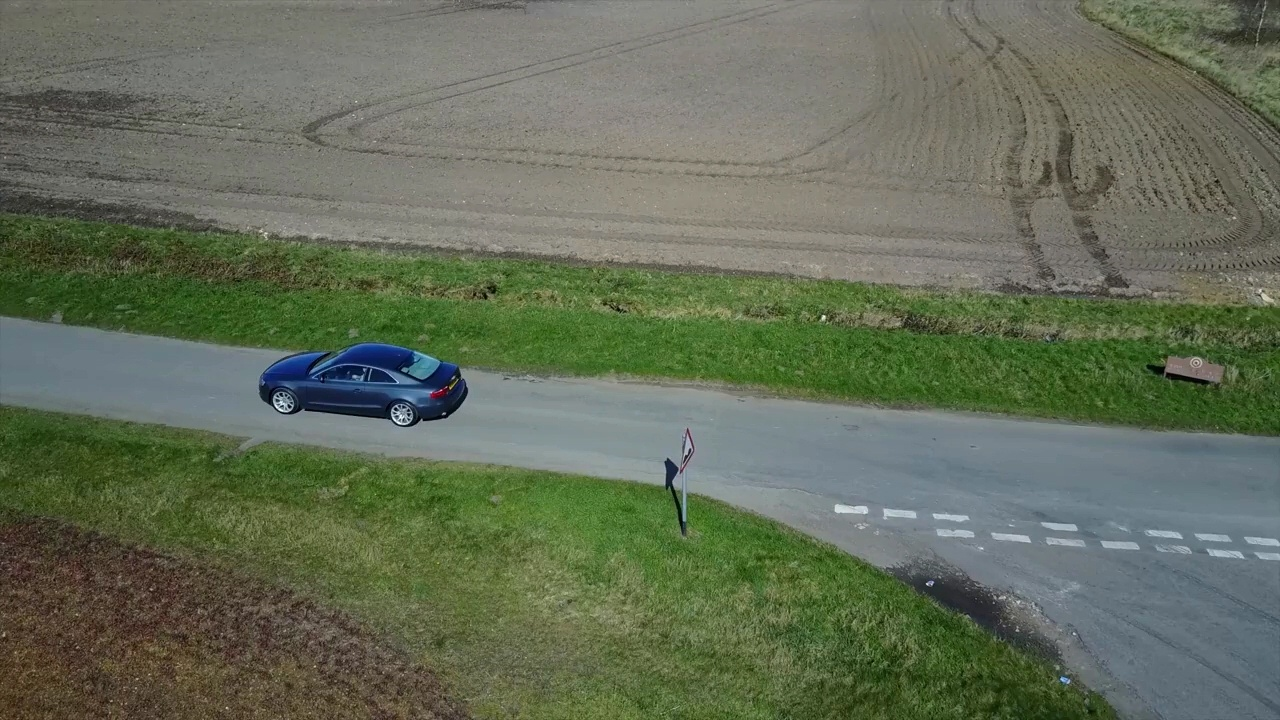araba: (254, 340, 468, 429)
